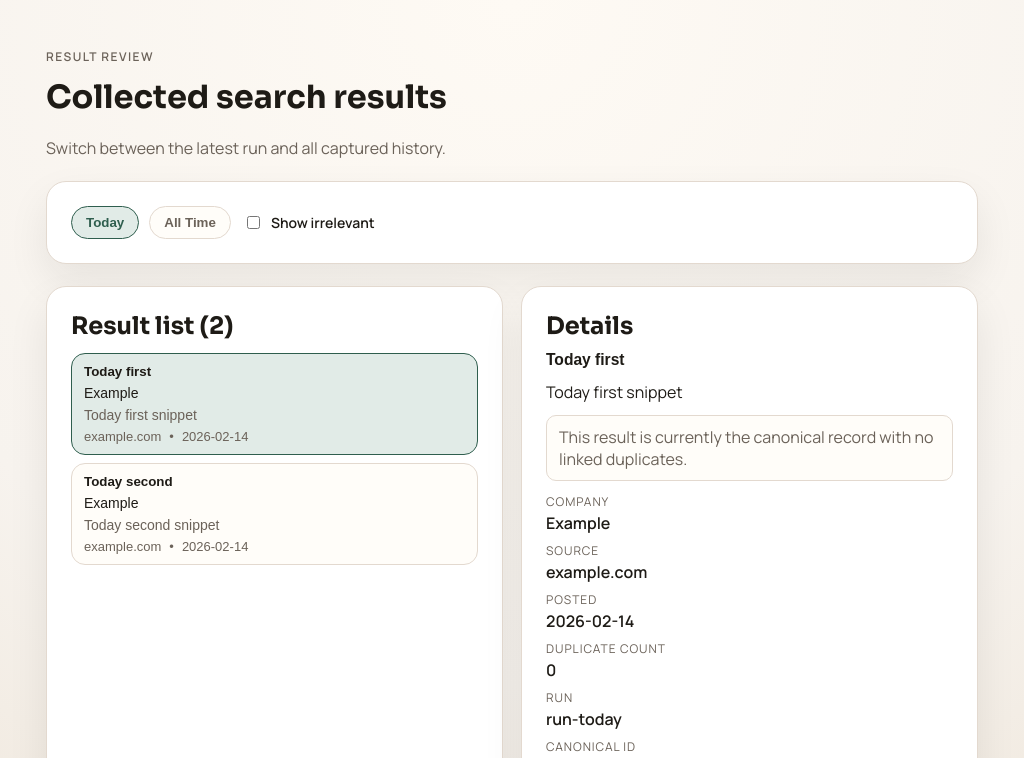
Scenario: ResultsPage › updates highlight and detail when selecting another row
The image size is (1024, 758).
What coordinates should you click on to do the following:
click the button "Today second"
I would click on:
 (128, 482)
Its box is x1=72 y1=464 x2=477 y2=564.
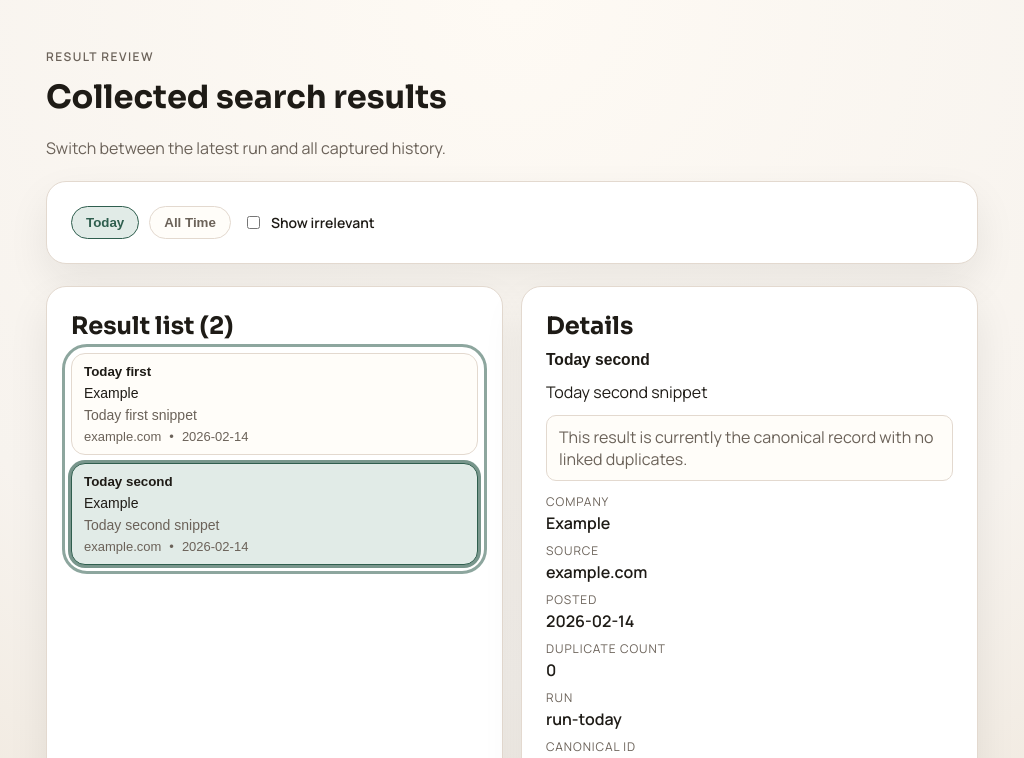
Expected: the heading "Today second" is shown, x1=546 y1=351 x2=650 y2=369
